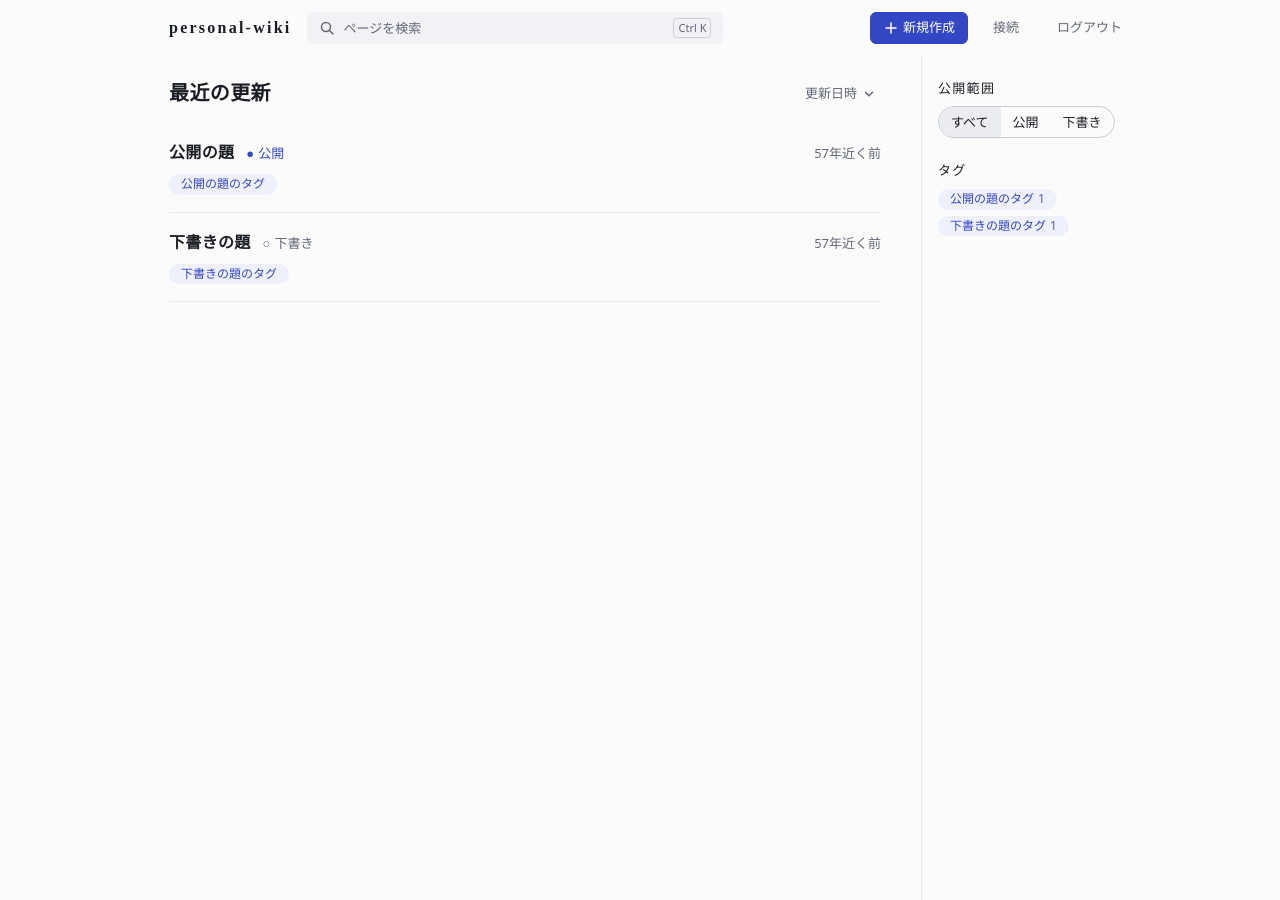
Test: App の owner の画面 › 新規作成の画面 › + を押すと、その操作の中で /?new を開いて title 欄にフォーカスし、title を決めるまで作らない
Click the button with aria-label "新規作成".
click(919, 28)  # box left=870, top=12, right=968, bottom=44
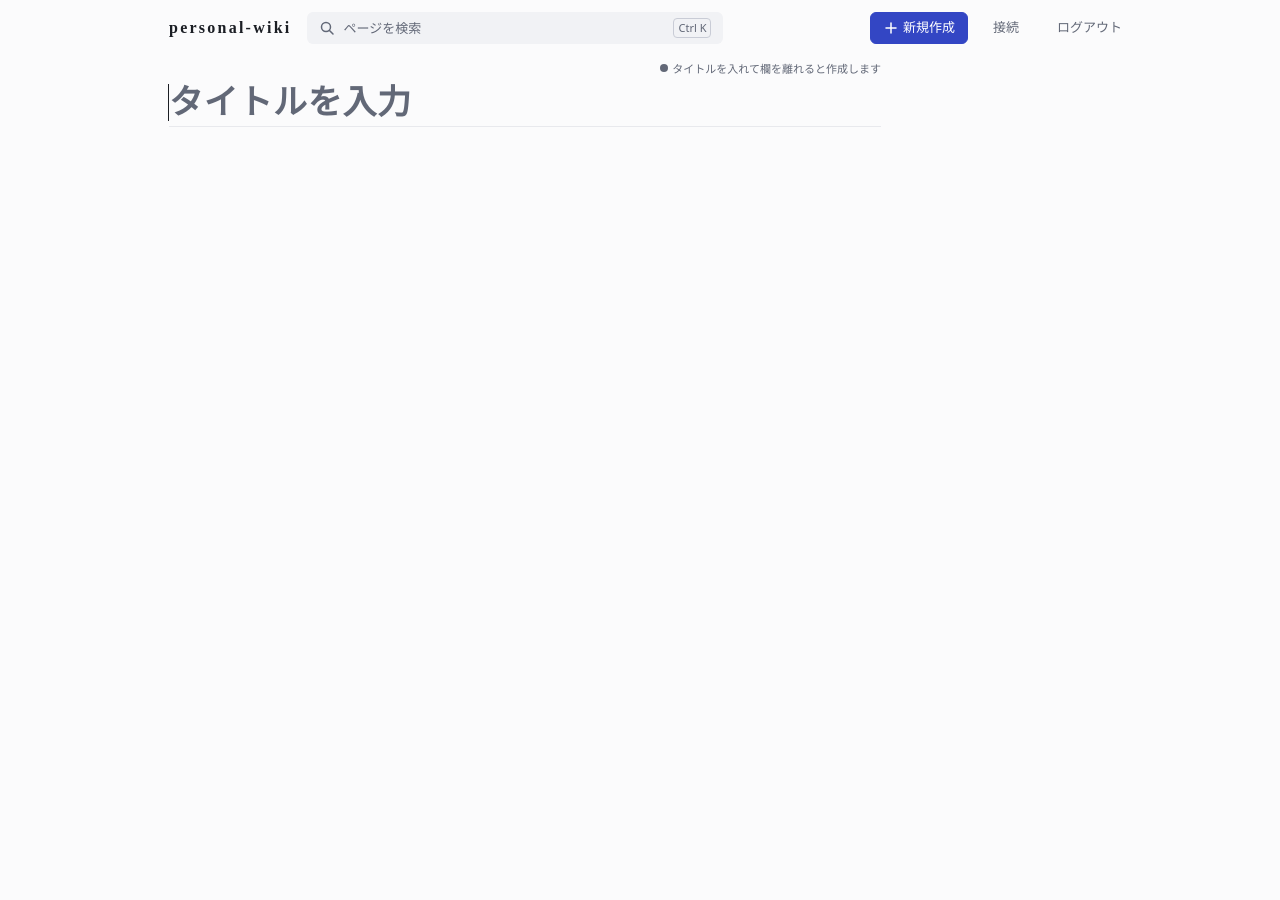
Now the element showing "タイトルを入れて欄を離れると作成します" is shown, box left=169, top=60, right=881, bottom=102
